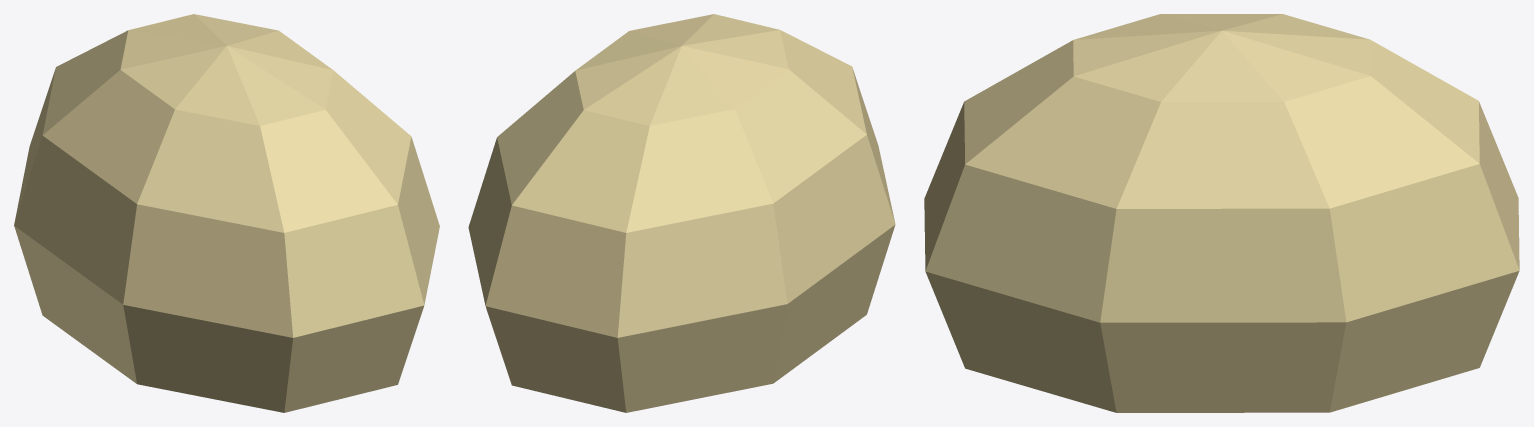
Rendered from Dough.fbx.
3 views of the same model, side by side, from view 1: azimuth 30°, elevation 25°; view 2: azimuth 150°, elevation 25°; view 3: azimuth 270°, elevation 25° (orthographic). The views are drawn at different scales.
Visible parts, largest first — view 1: Cube; view 2: Cube; view 3: Cube.
Boxes of the visible parts, x1,y1,x2,y2 form: Cube: (14, 14, 439, 412); Cube: (468, 14, 895, 412); Cube: (924, 14, 1519, 412).
Bounding box in the file's own units: 38.87 × 31.5 × 55.53.
